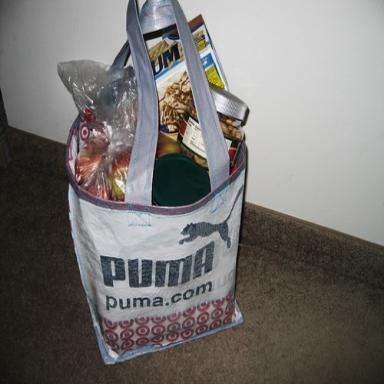plasticbag: (57, 50, 141, 219)
